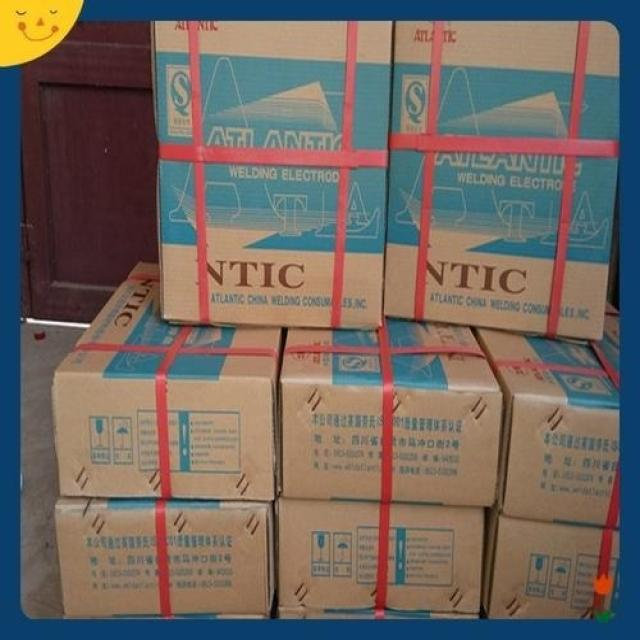box: (383, 20, 620, 345), (150, 21, 392, 331), (52, 261, 282, 501), (278, 315, 503, 507), (469, 302, 620, 530), (55, 497, 276, 617), (275, 498, 484, 619), (481, 507, 620, 621)
